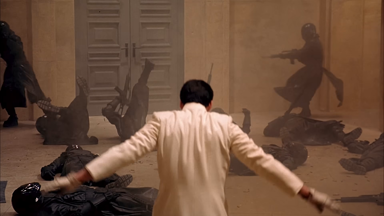firearm: (112, 67, 132, 116), (330, 190, 383, 207), (263, 49, 301, 67), (205, 62, 216, 86)
